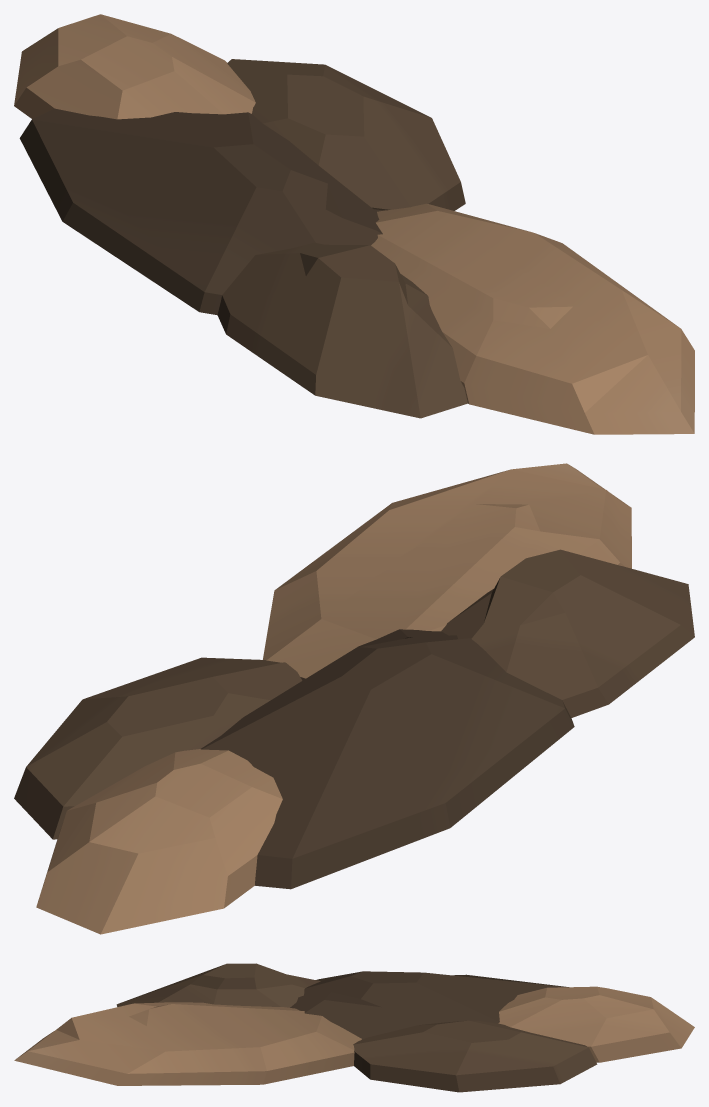
File: ea_swamp_grass_hill_dead_01b_pre__5__lev1.glb
3 views of the same model, one above another, from view 1: azimuth 30°, elevation 25°; view 2: azimuth 150°, elevation 25°; view 3: azimuth 270°, elevation 25° (orthographic). The views are drawn at different scales.
Parts seen in each view (by area): view 1: ea_swamp_grass_hill_dead_01b_pre__5__lev1; view 2: ea_swamp_grass_hill_dead_01b_pre__5__lev1; view 3: ea_swamp_grass_hill_dead_01b_pre__5__lev1.
Boxes of the visible parts, x1,y1,x2,y2 form: ea_swamp_grass_hill_dead_01b_pre__5__lev1: (14,14,694,434); ea_swamp_grass_hill_dead_01b_pre__5__lev1: (14,463,694,934); ea_swamp_grass_hill_dead_01b_pre__5__lev1: (14,963,694,1092).
Size of the model in its own units: 2.53 by 0.4973 by 6.75.
Materials: 1 (1 with a texture image).
